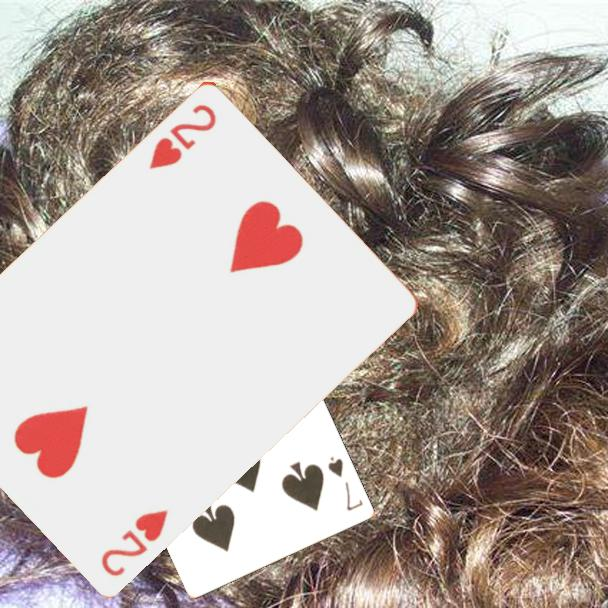h02: (97, 505, 172, 579), (145, 100, 219, 172)
s07: (325, 453, 366, 514)
